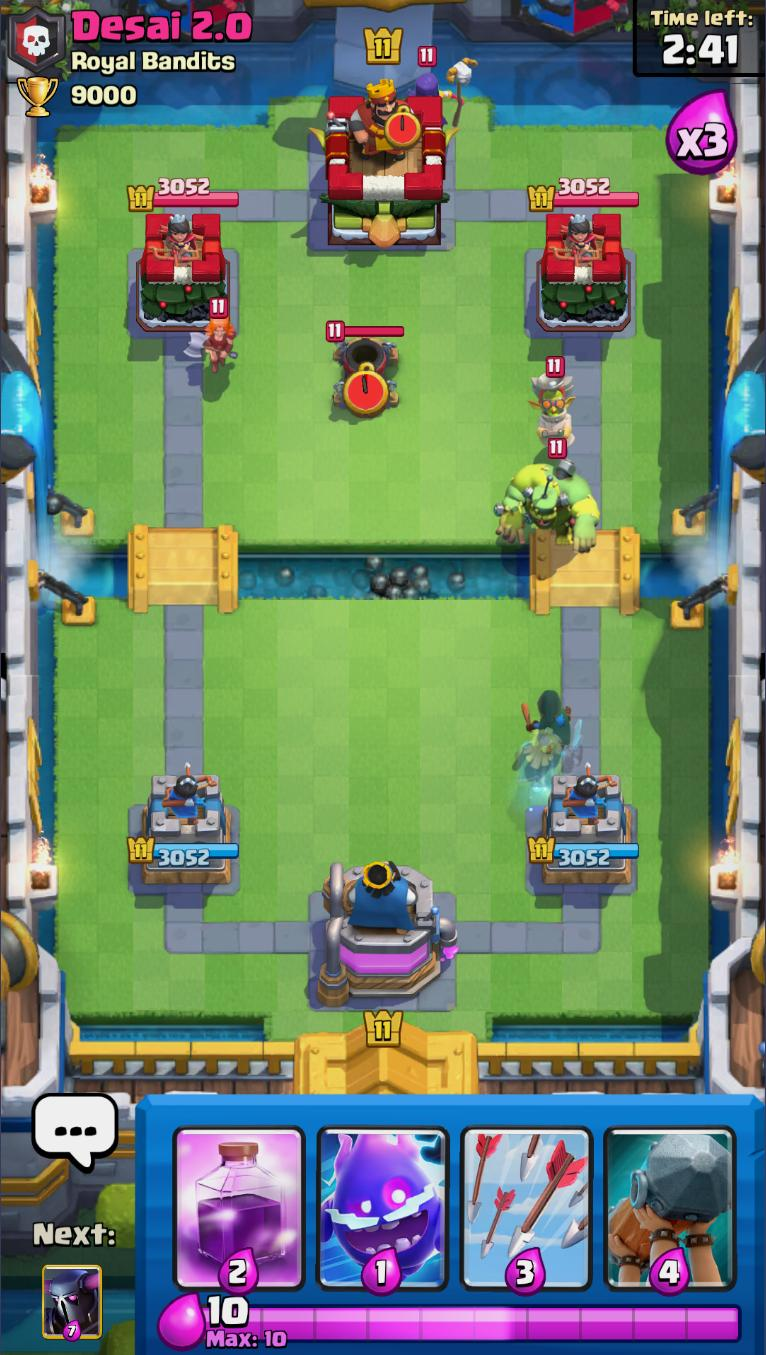ArrowDeck: (456, 1094, 598, 1295)
BattleRamDeck: (599, 1094, 744, 1296)
ElectroSpiritDeck: (311, 1095, 455, 1296)
Elixir: (203, 1295, 744, 1350)
EnemyTower: (533, 208, 631, 331), (133, 210, 229, 335)
Goblinstein: (494, 438, 601, 553)
GoblinsteinScientist: (530, 356, 578, 457)
KingTower: (308, 82, 456, 248)
Mortar: (325, 319, 406, 409)
MyBandit: (520, 689, 573, 744)
MyKingTower: (319, 856, 458, 1009)
MyPrincessTower: (524, 771, 639, 887), (125, 769, 238, 887)
MyPrincessTowerHP: (125, 836, 238, 868), (525, 835, 637, 867)
MyRoyaleGhost: (514, 721, 584, 790)
PekkaNext: (40, 1264, 105, 1344)
PrincessTower: (546, 213, 603, 264), (144, 214, 200, 264)
RageDeck: (167, 1095, 310, 1296)
TowerPrincessHP: (126, 178, 239, 213), (526, 178, 639, 212)
Valkyrie: (185, 297, 240, 376)
Witch: (408, 47, 478, 128)
